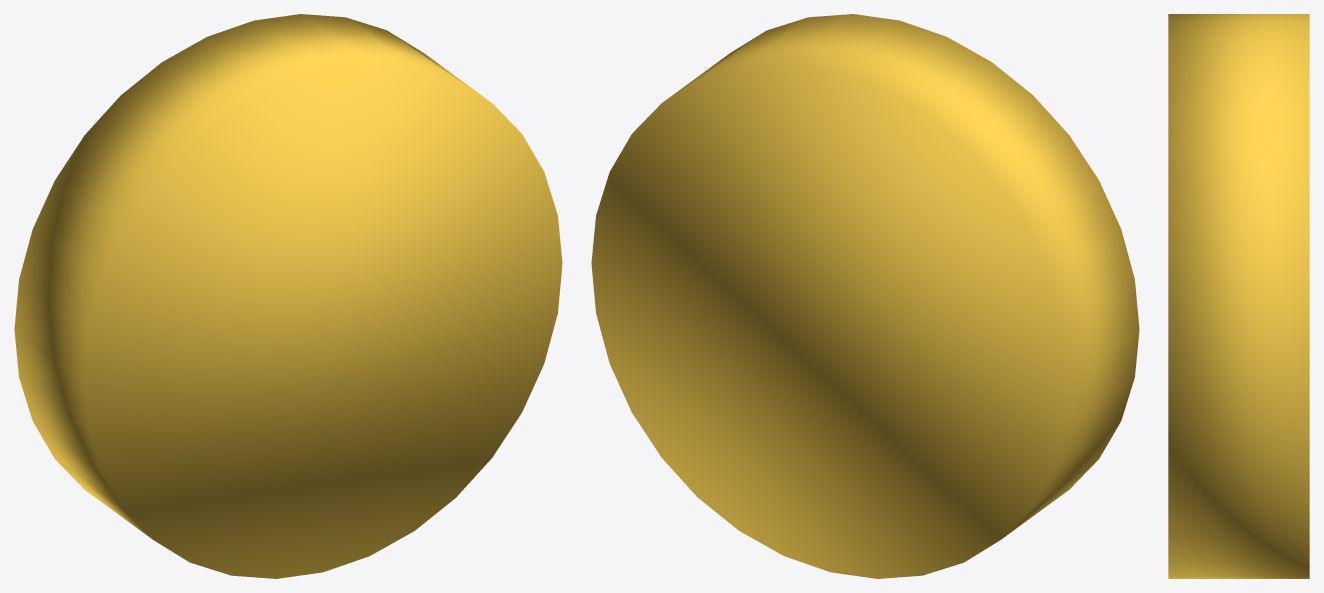
Rendered from Coin.glb.
3 renders of one model, left to right at view 1: azimuth 30°, elevation 25°; view 2: azimuth 150°, elevation 25°; view 3: azimuth 270°, elevation 25°, orthographic. The views are drawn at different scales.
Visible parts, largest first — view 1: Coin; view 2: Coin; view 3: Coin.
Part boxes in pixels (x1,y1,x2,y2): Coin: (14, 14, 562, 578); Coin: (591, 14, 1139, 578); Coin: (1168, 14, 1309, 578).
Bounding box in the file's own units: 2 × 2 × 0.5.
